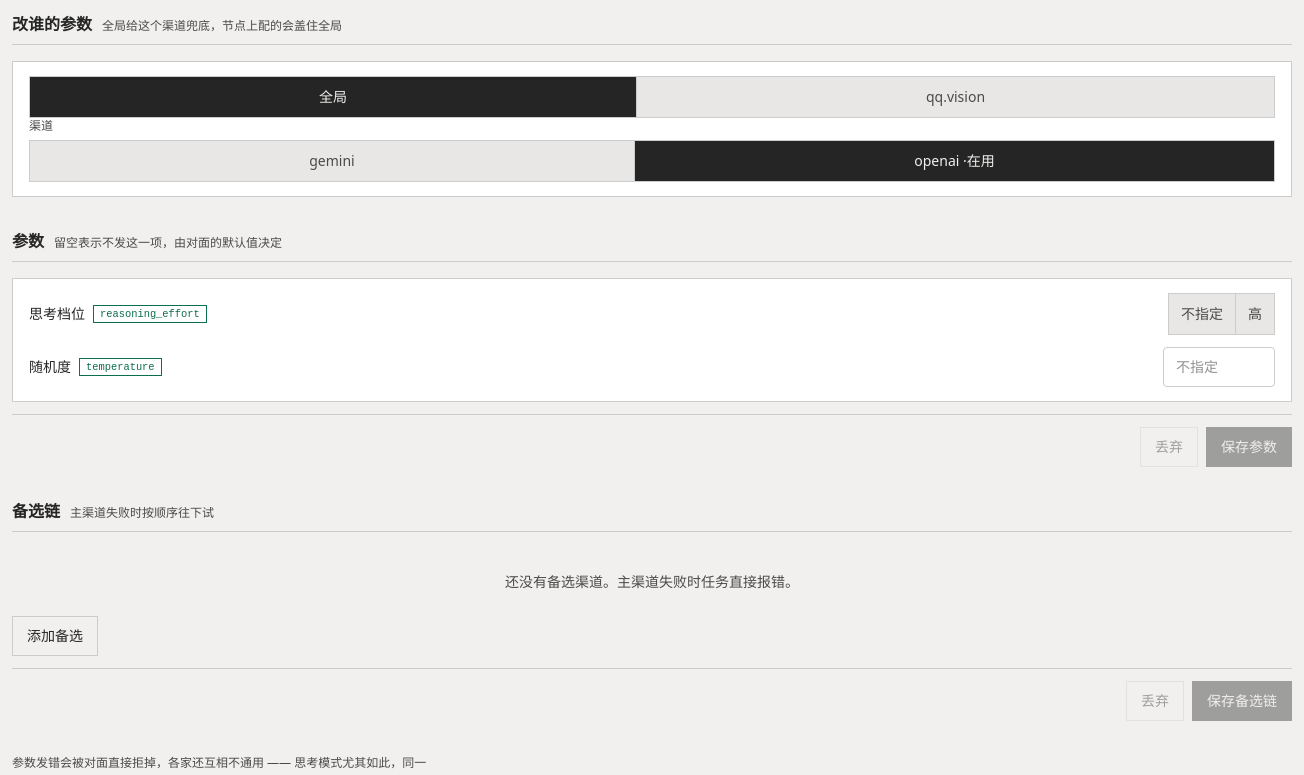
Scenario: 模型参数页 › 保存后重读失败就说出来，不拿旧的生效值顶上
Click the button "高": {"x": 1254, "y": 314} top-left (1235, 294), bottom-right (1274, 334)
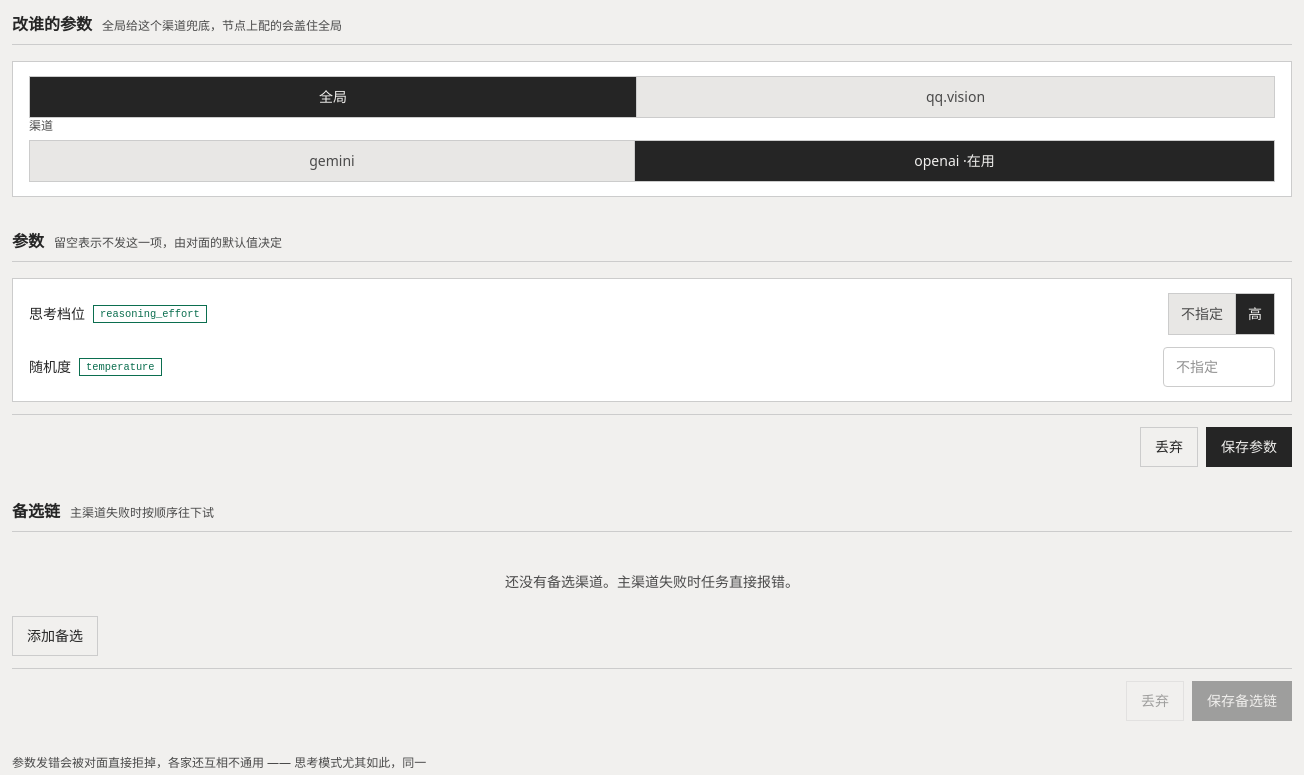
Click the button "保存参数": {"x": 1249, "y": 447} top-left (1206, 427), bottom-right (1292, 467)
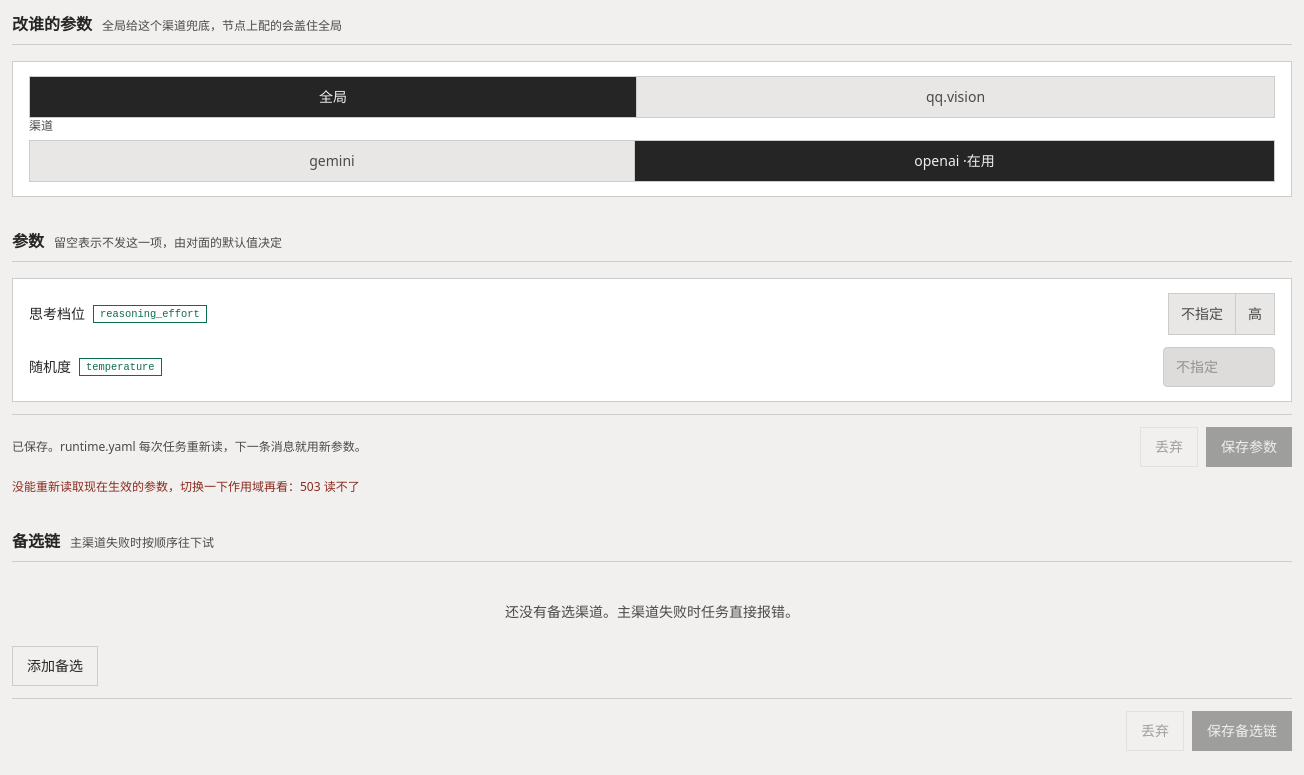
Expected: the text "没能重新读取现在生效的参数，切换一下作用域再看：503 读不了" is shown, top-left (12, 478), bottom-right (360, 495)
Expected: the button "保存参数" is disabled, top-left (1206, 427), bottom-right (1292, 467)
